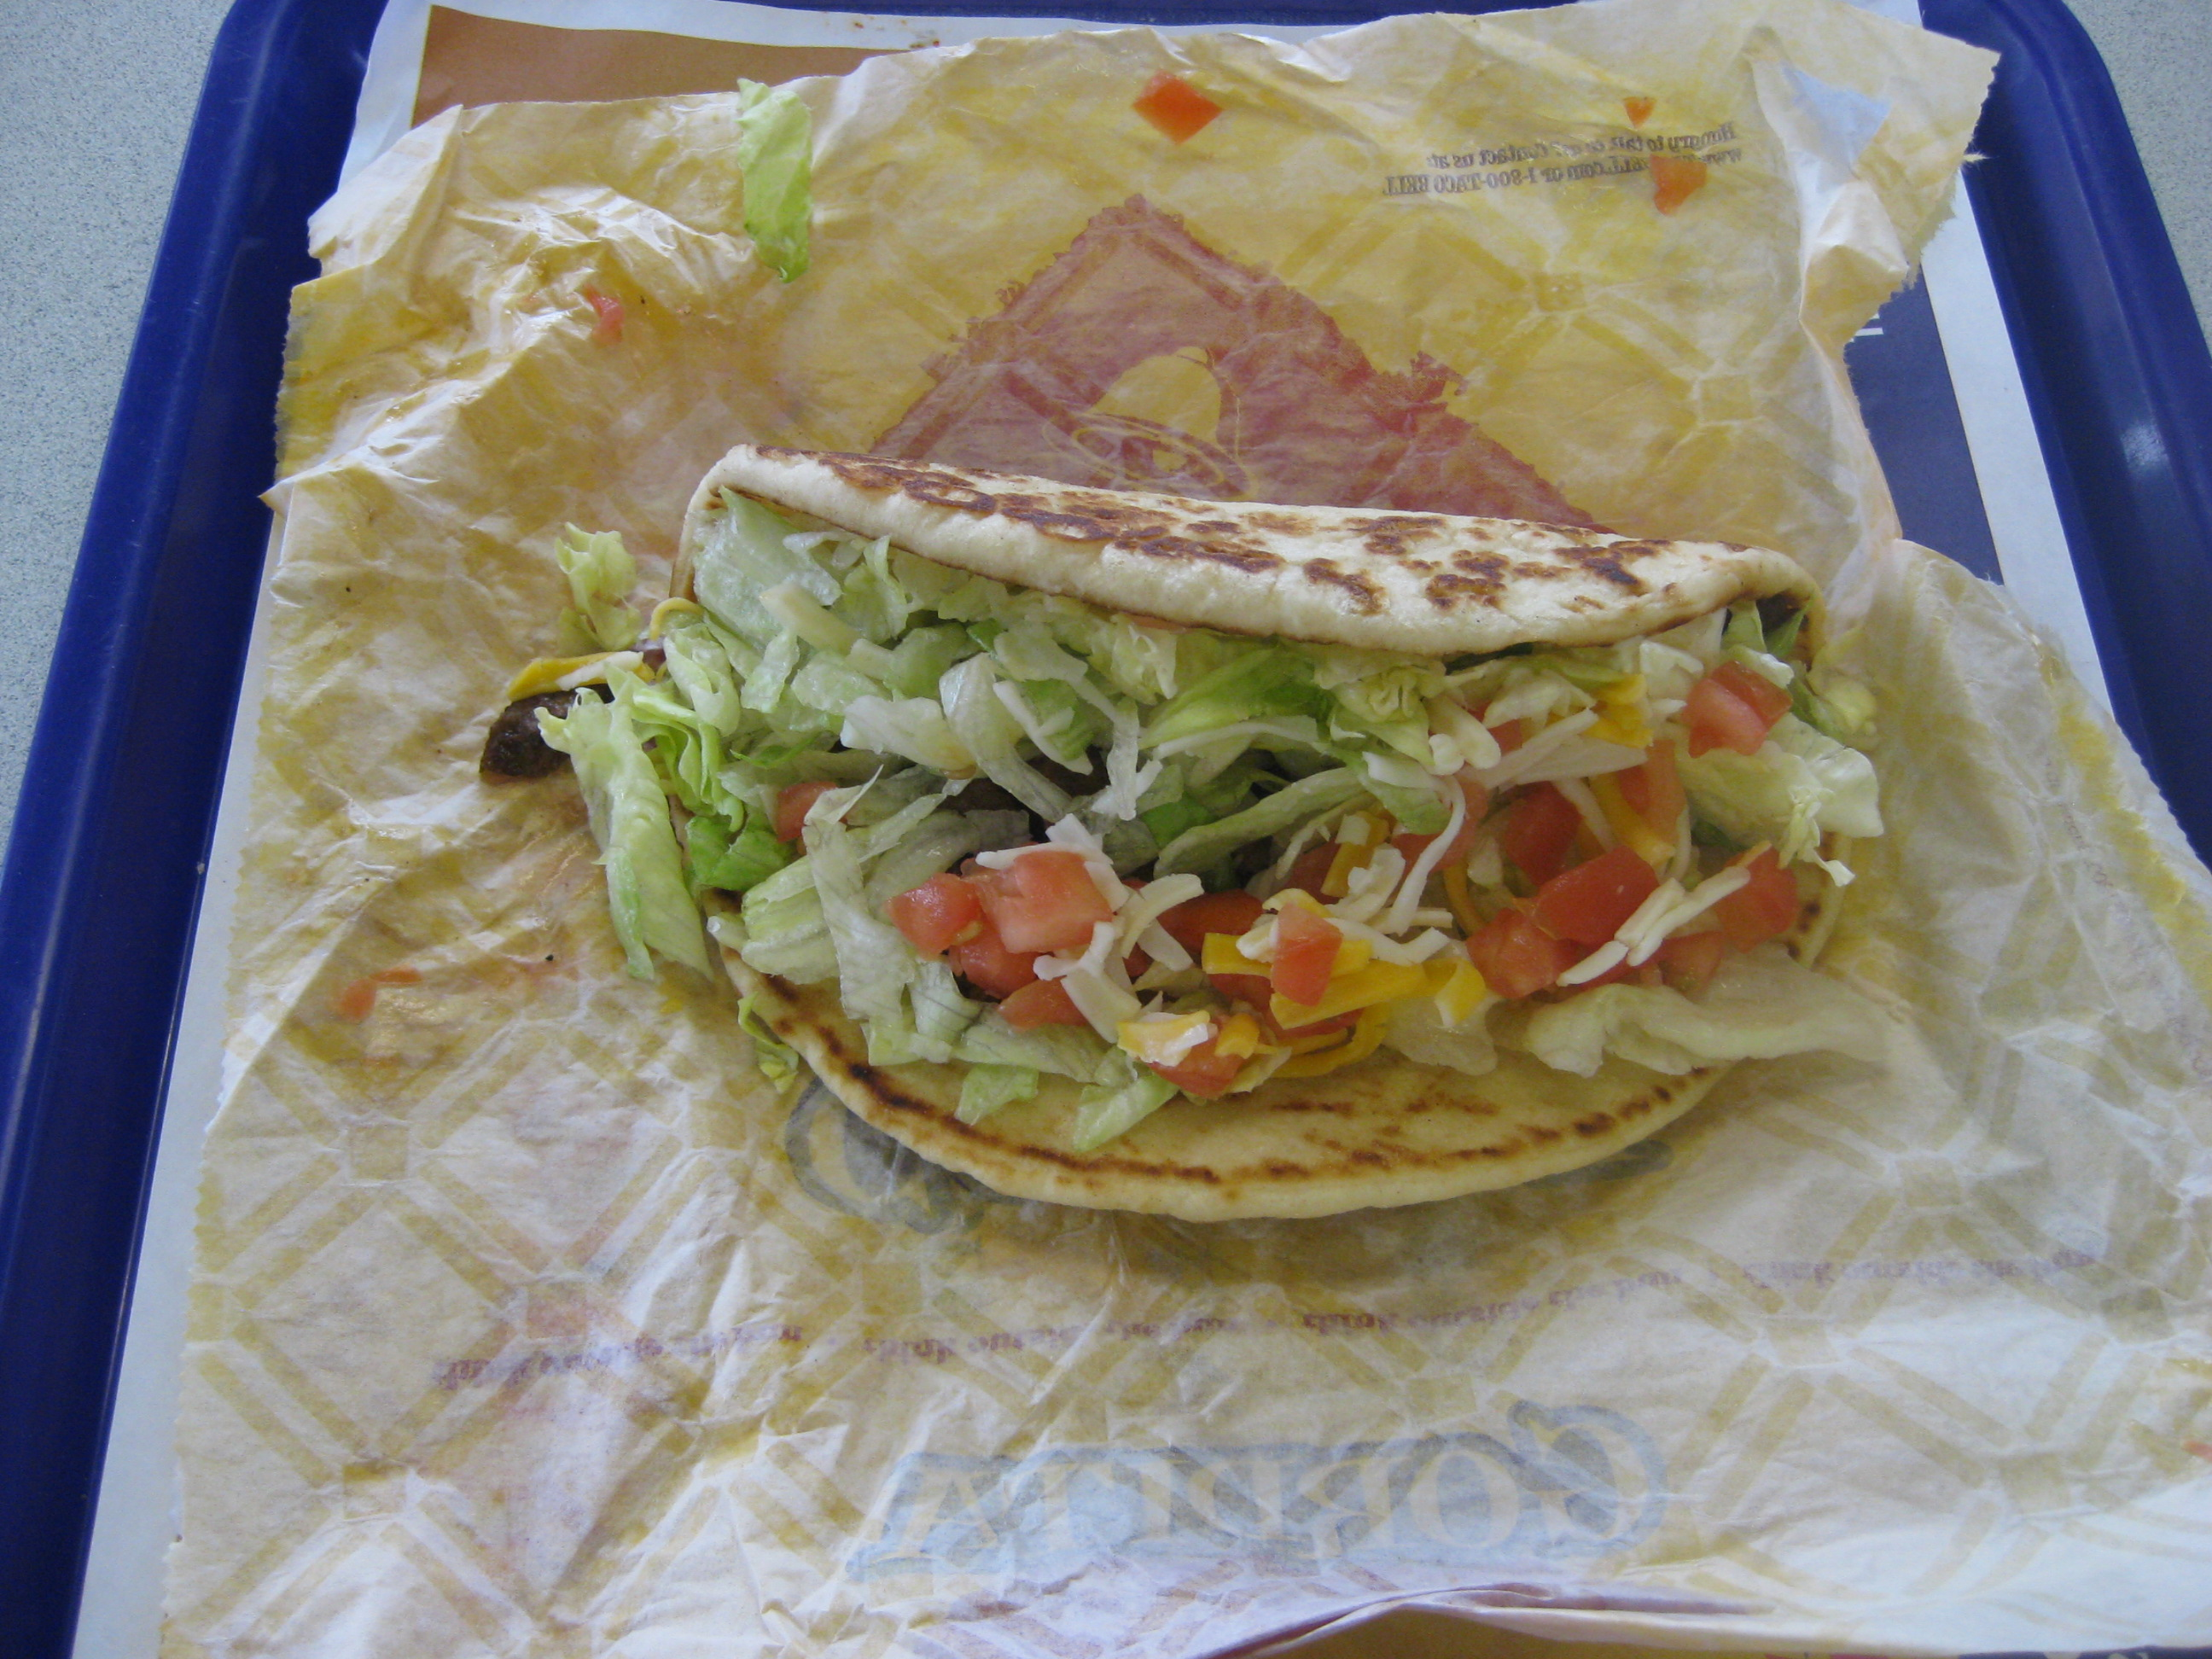taco: (595, 328, 1877, 1275)
